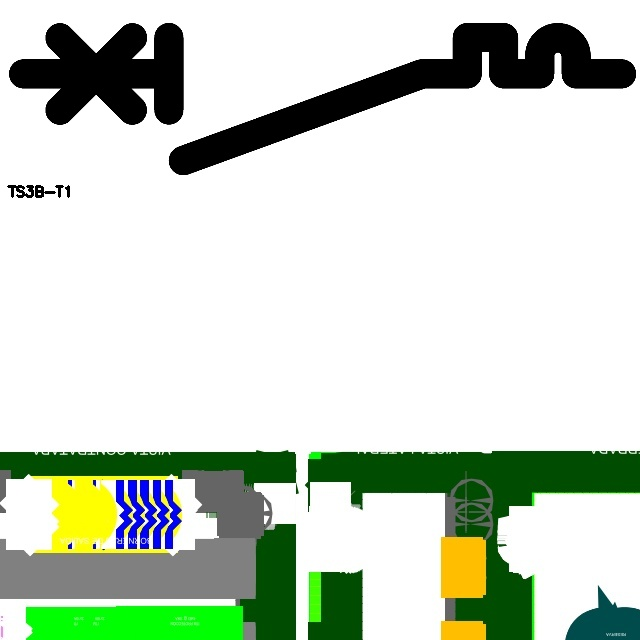interruptor_termomagnetico: (8, 22, 637, 176)
